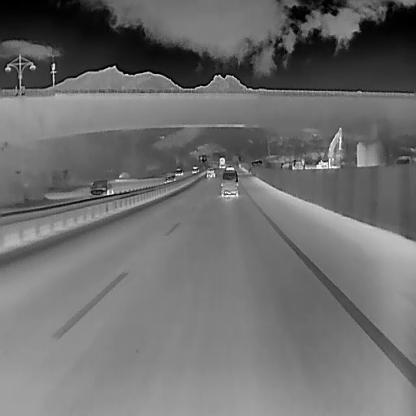car: (220, 168, 238, 198), (88, 178, 114, 197), (173, 167, 184, 176), (164, 175, 176, 183), (206, 166, 214, 178), (191, 165, 199, 174)
truck: (218, 156, 226, 168)
